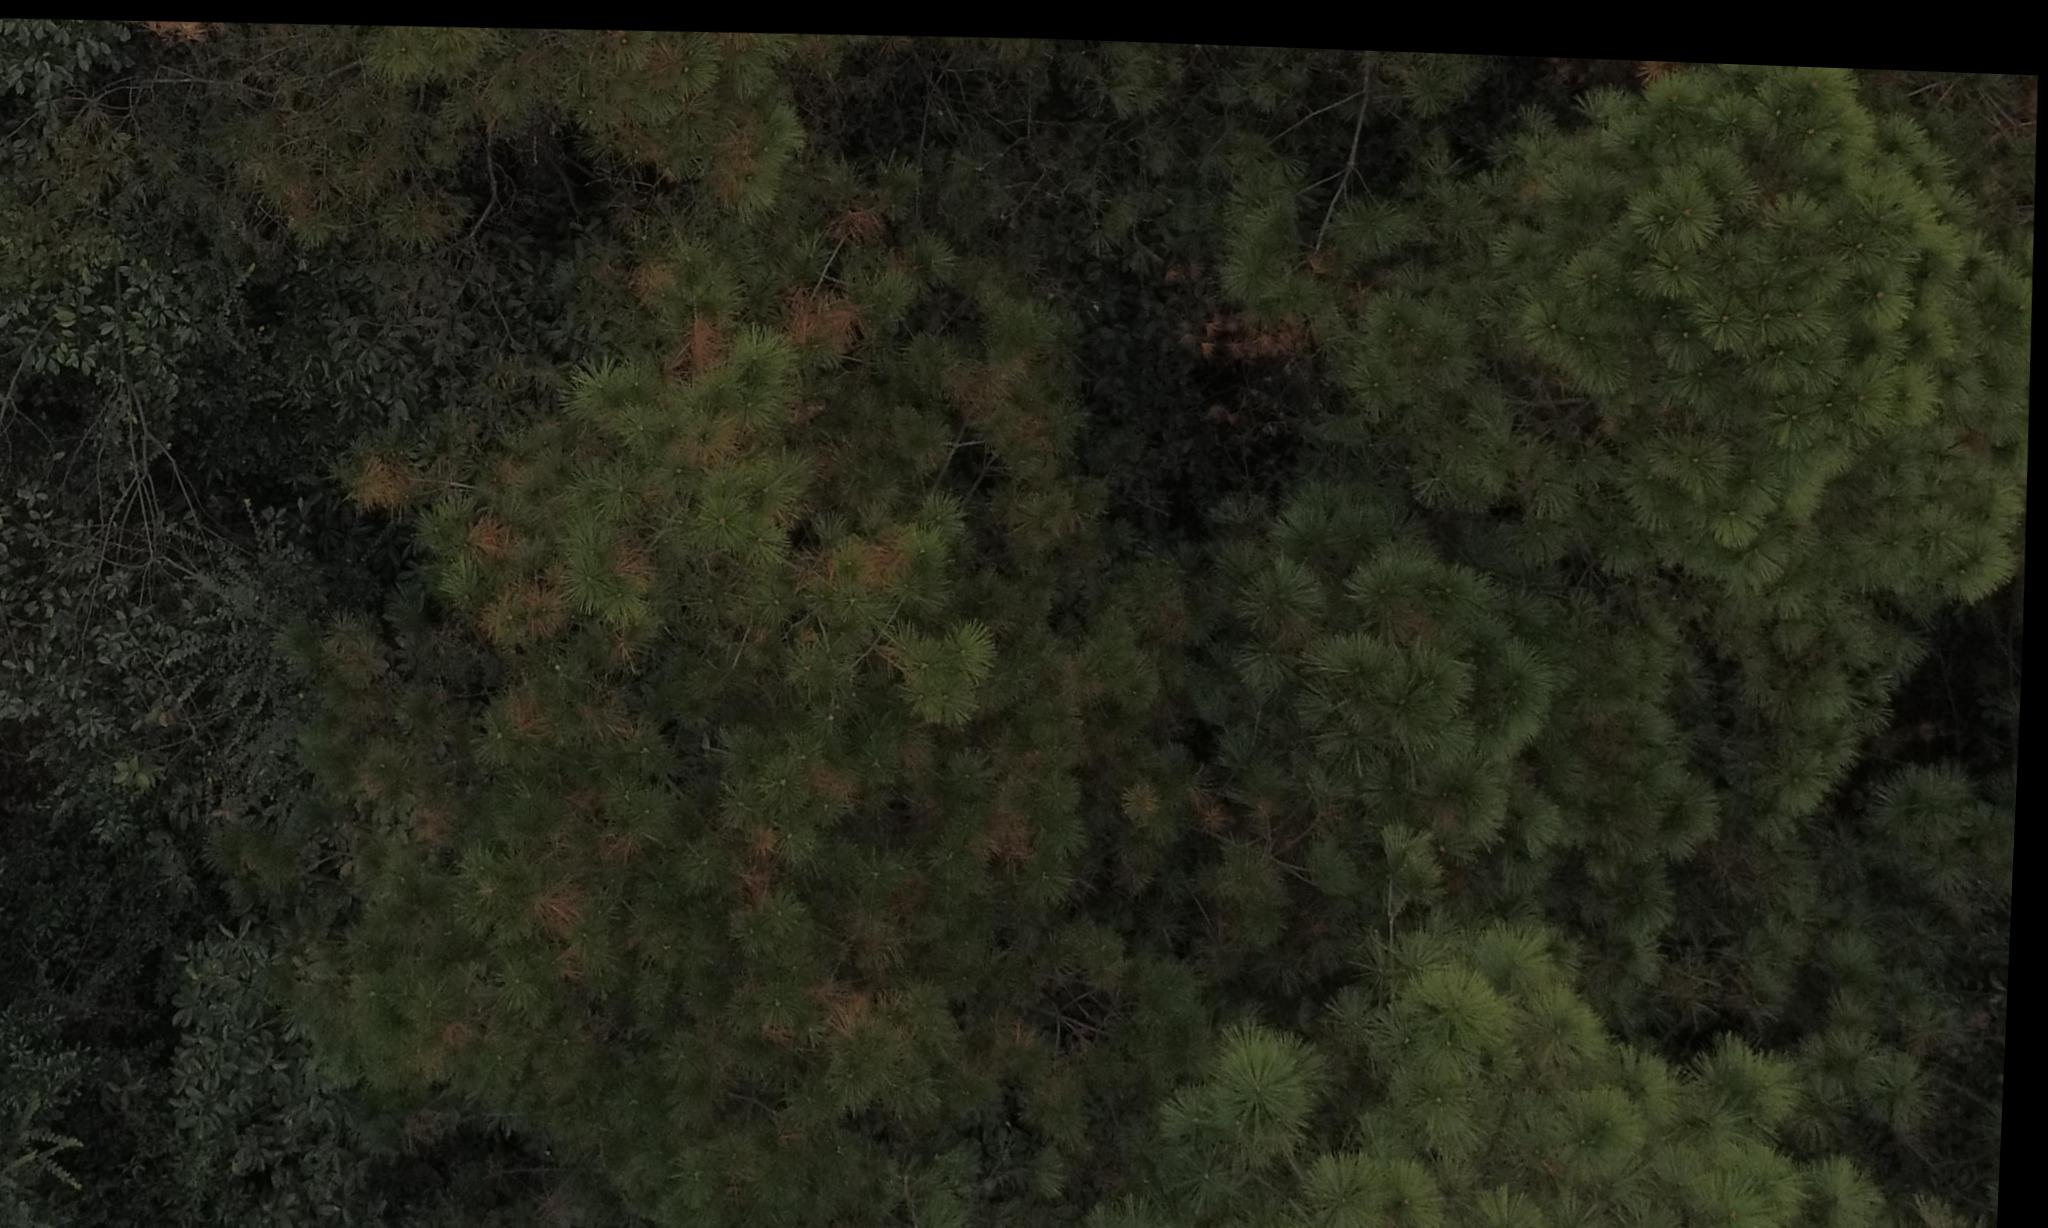light: (354, 174, 1034, 1013)
